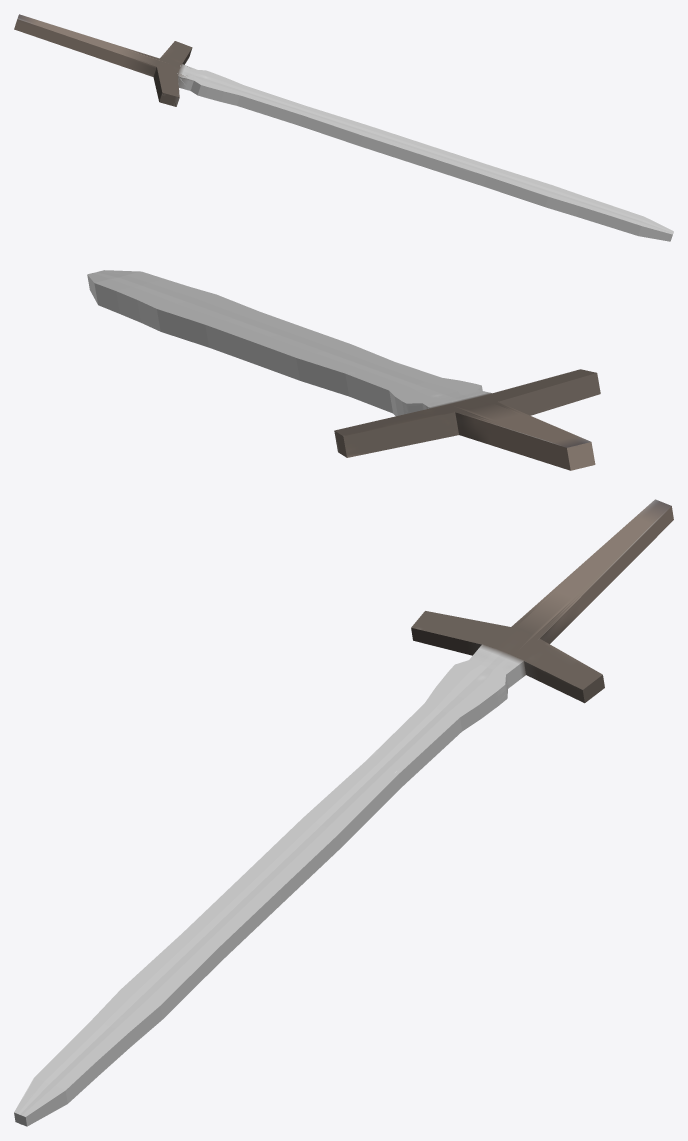
Rendered from sword_000119.obj.
3 views of the same model, one above another, from view 1: azimuth 30°, elevation 25°; view 2: azimuth 150°, elevation 25°; view 3: azimuth 270°, elevation 25° (orthographic). The views are drawn at different scales.
Bounding box in the file's own units: 0.5343 × 0.2035 × 0.4292.
